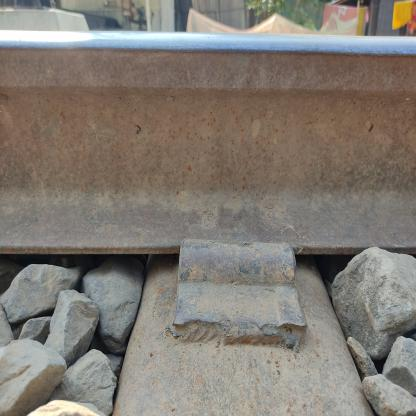Defective 1: (143, 173, 343, 379)
